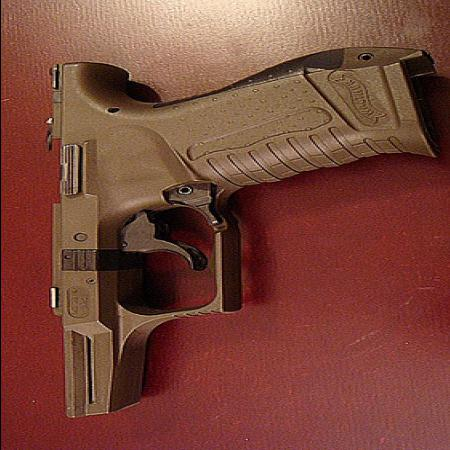Pistol: (40, 47, 432, 421)
